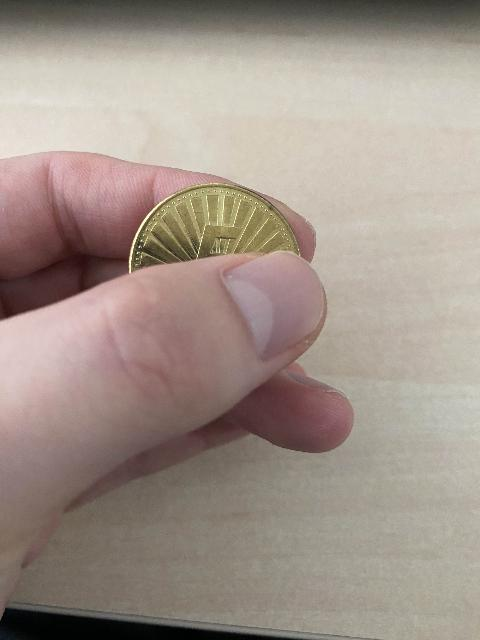coin: (130, 184, 299, 271)
